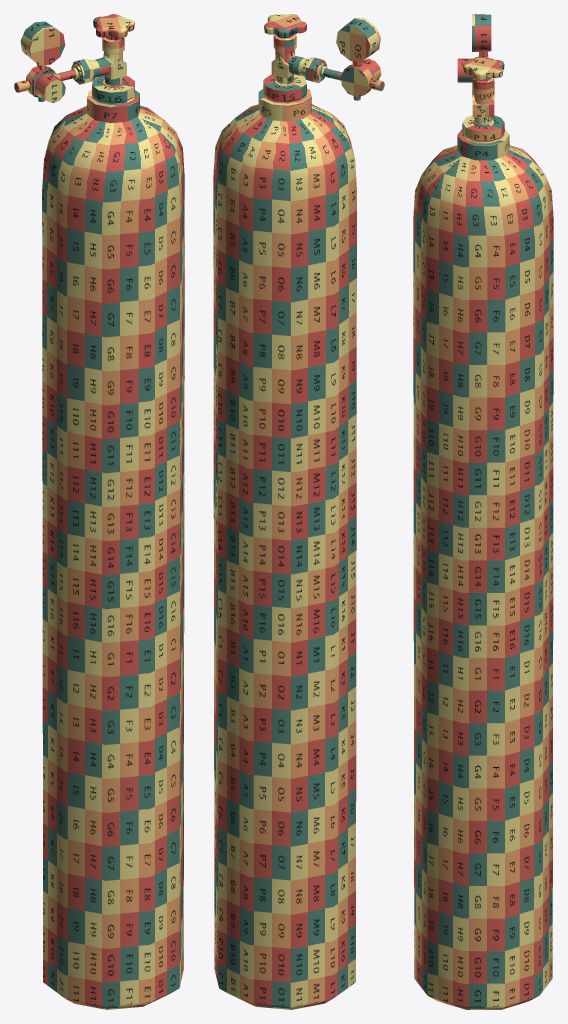
3 views of the same model, side by side, from view 1: azimuth 30°, elevation 25°; view 2: azimuth 150°, elevation 25°; view 3: azimuth 270°, elevation 25° (orthographic). The views are drawn at different scales.
Visible parts, largest first — view 1: SM_Cylinder_01a; view 2: SM_Cylinder_01a; view 3: SM_Cylinder_01a.
Part boxes in pixels (x1=…): SM_Cylinder_01a: x1=14, y1=14, x2=184, y2=1009; SM_Cylinder_01a: x1=213, y1=14, x2=384, y2=1009; SM_Cylinder_01a: x1=413, y1=14, x2=553, y2=1009.
Size of the model in its own units: 25.51 by 152 by 20.61.
Materials: 1 (1 with a texture image).
